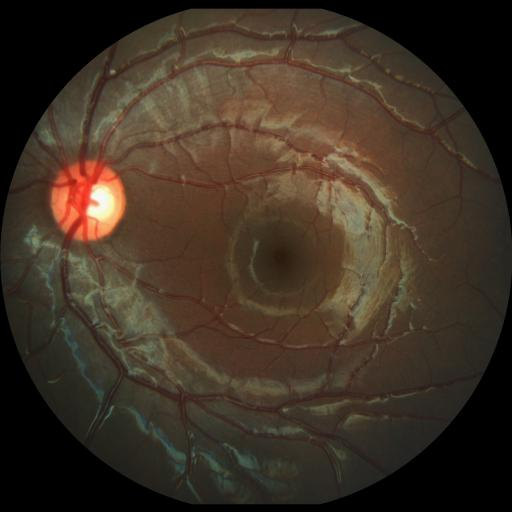Optic Cup: (83, 184, 114, 222)
Optic Disc: (51, 161, 126, 241)
